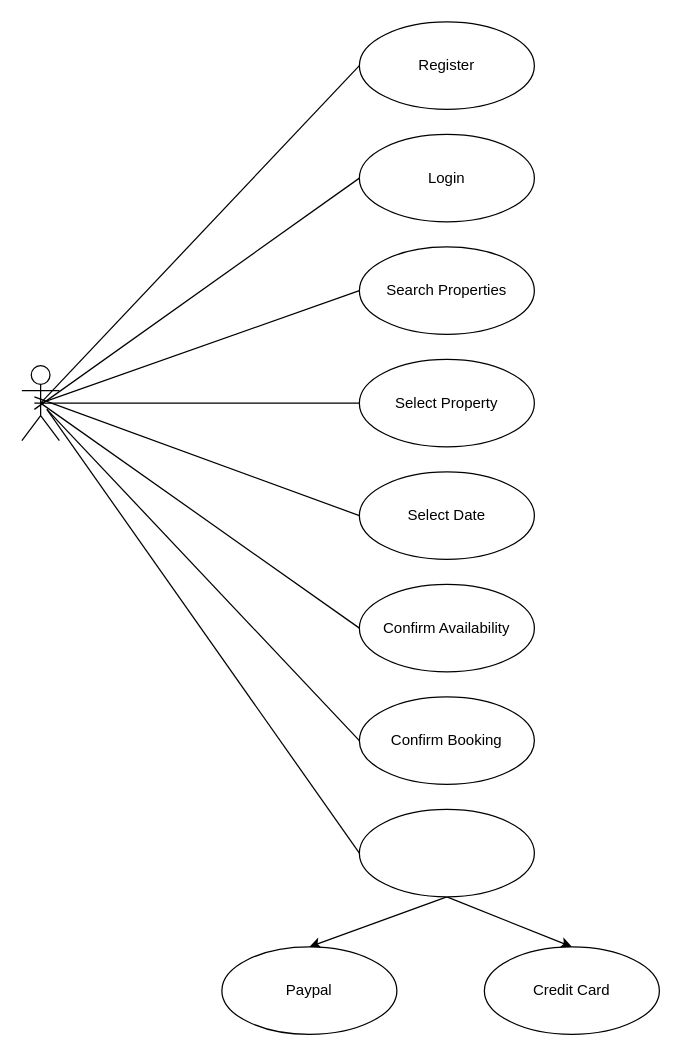
Image size: 681x1056. Some labels were removed from this diagram. The box of each missing label's shape, as (x1, y1, x2, y2) in pixels:
Actor: (21, 364, 59, 441)
Make Payment: (358, 808, 534, 897)
